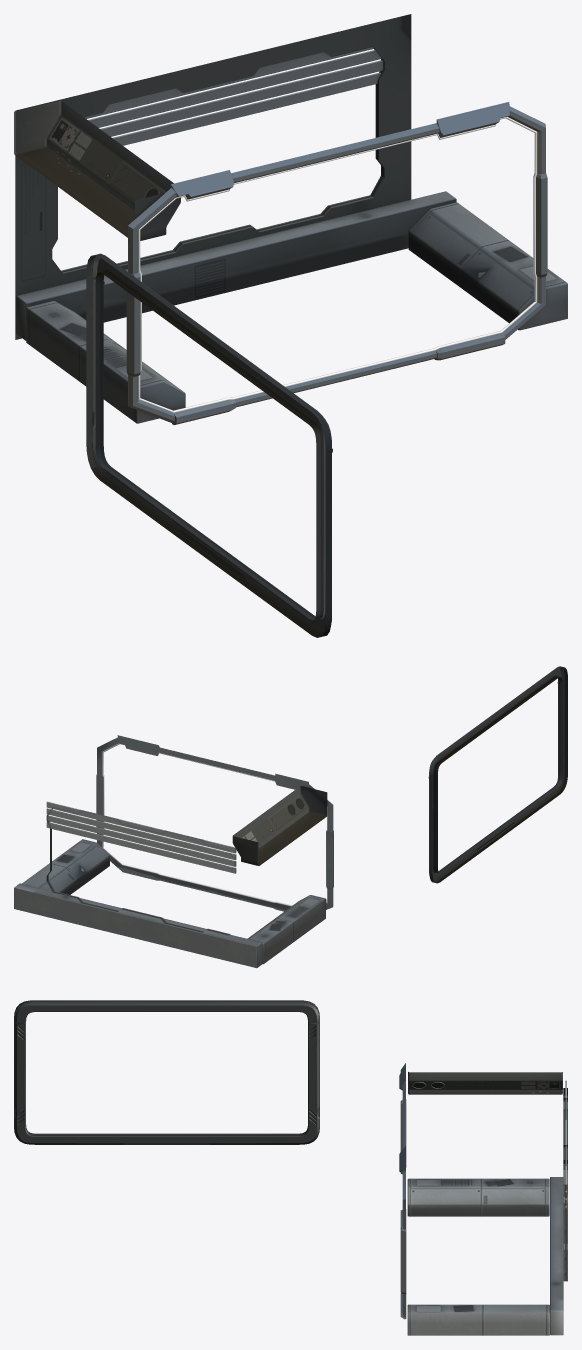
File: Pico_03_1_R.fbx
3 renders of one model, top to bottom at view 1: azimuth 30°, elevation 25°; view 2: azimuth 150°, elevation 25°; view 3: azimuth 270°, elevation 25°, orthographic. The views are drawn at different scales.
Visible parts, largest first — view 1: chuang_3_15, dianshi1, chuang_3_21, chuang_3_16, chuang_3_19, zawu_07, chuang_3_20, chuang_3_18, chuang_3_17; view 2: chuang_3_21, dianshi1, zawu_07, chuang_3_16, chuang_3_19, chuang_3_20, chuang_3_18, chuang_3_17, chuang_3_15; view 3: dianshi1, chuang_3_18, chuang_3_20, chuang_3_19, chuang_3_21, chuang_3_16, chuang_3_15.
Boxes of the visible parts, x1,y1,x2,y2 form: chuang_3_15: (15, 14, 411, 339); dianshi1: (86, 253, 332, 637); chuang_3_21: (16, 191, 456, 340); chuang_3_16: (126, 102, 547, 424); chuang_3_19: (14, 100, 180, 240); zawu_07: (84, 47, 383, 145); chuang_3_20: (408, 202, 567, 330); chuang_3_18: (26, 301, 185, 423); chuang_3_17: (138, 117, 537, 412); chuang_3_21: (14, 883, 262, 968); dianshi1: (428, 666, 567, 883); zawu_07: (46, 801, 236, 873); chuang_3_16: (96, 735, 333, 911); chuang_3_19: (232, 786, 327, 865); chuang_3_20: (22, 839, 109, 894); chuang_3_18: (247, 895, 326, 964); chuang_3_17: (102, 743, 327, 906); chuang_3_15: (46, 808, 230, 935); dianshi1: (14, 1000, 319, 1144); chuang_3_18: (407, 1178, 549, 1216); chuang_3_20: (407, 1304, 549, 1335); chuang_3_19: (408, 1072, 562, 1094); chuang_3_21: (550, 1177, 563, 1335); chuang_3_16: (399, 1063, 406, 1319); chuang_3_15: (563, 1088, 567, 1281).
Bounding box in the file's own units: 495 × 227 × 675.
